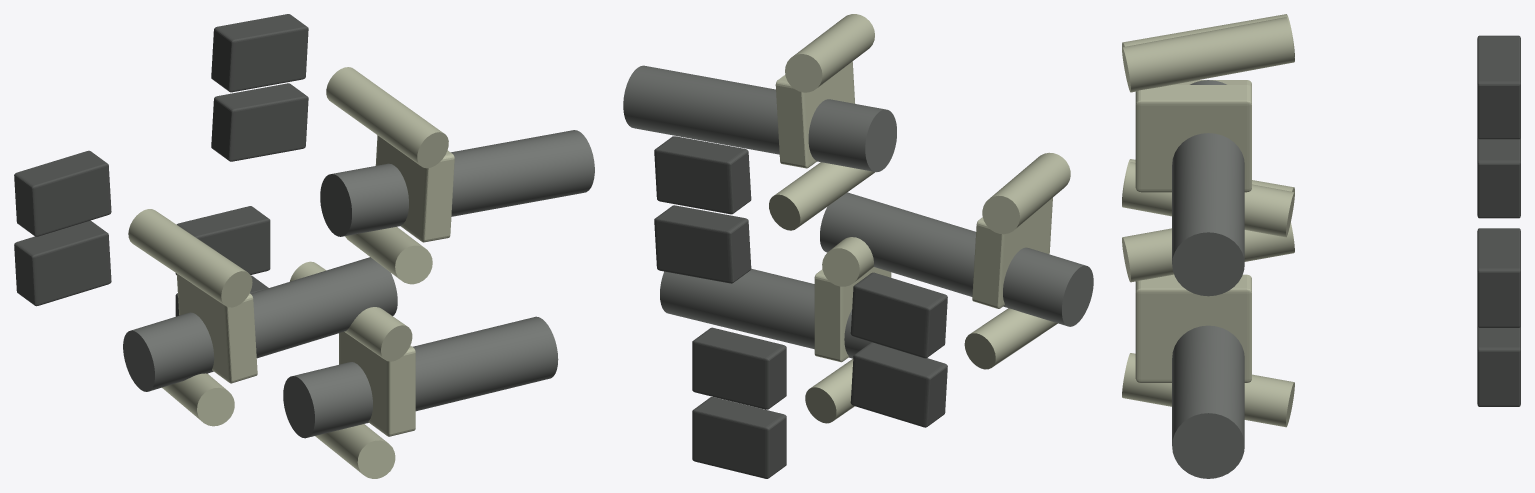
File: v-u05-vanguard-anti-air-team-lod2.glb
3 renders of one model, left to right at view 1: azimuth 30°, elevation 25°; view 2: azimuth 150°, elevation 25°; view 3: azimuth 270°, elevation 25°, orthographic. The views are drawn at different scales.
Visible parts, largest first — view 1: soldier_1_launcher, soldier_0_launcher, soldier_2_launcher, soldier_2_boot_1, soldier_2_boot_-1, soldier_0_boot_1, soldier_0_boot_-1, soldier_2_arm_1, soldier_0_arm_1, soldier_2_chest, soldier_1_chest, soldier_0_chest (+5 smaller); view 2: soldier_0_launcher, soldier_2_launcher, soldier_1_launcher, soldier_2_boot_1, soldier_1_boot_1, soldier_1_boot_-1, soldier_2_boot_-1, soldier_0_boot_-1, soldier_0_boot_1, soldier_2_chest, soldier_0_chest, soldier_2_arm_1 (+6 smaller); view 3: soldier_0_launcher, soldier_1_launcher, soldier_0_chest, soldier_0_arm_1, soldier_1_chest, soldier_0_boot_1, soldier_1_boot_1, soldier_1_arm_1, soldier_0_arm_-1, soldier_0_boot_-1, soldier_1_arm_-1, soldier_1_boot_-1 (+1 smaller).
Part boxes in pixels (x1,y1,x2,y2): soldier_1_launcher: (283,316,558,438); soldier_0_launcher: (320,130,594,236); soldier_2_launcher: (123,257,397,391); soldier_2_boot_1: (14,150,111,236); soldier_2_boot_-1: (14,220,111,306); soldier_0_boot_1: (211,14,308,92); soldier_0_boot_-1: (211,83,308,161); soldier_2_arm_1: (128,209,252,307); soldier_0_arm_1: (326,67,448,168); soldier_2_chest: (176,273,257,383); soldier_1_chest: (339,332,415,436); soldier_0_chest: (375,135,454,242); soldier_0_launcher: (623,65,896,172); soldier_2_launcher: (820,192,1093,326); soldier_1_launcher: (660,268,927,358); soldier_2_boot_1: (850,272,947,358); soldier_1_boot_1: (692,327,786,409); soldier_1_boot_-1: (692,397,786,478); soldier_2_boot_-1: (850,342,947,427); soldier_0_boot_-1: (654,205,751,283); soldier_0_boot_1: (654,136,751,214); soldier_2_chest: (972,198,1052,308); soldier_0_chest: (775,61,855,168); soldier_2_arm_1: (982,152,1070,234); soldier_0_launcher: (1172,80,1244,296); soldier_1_launcher: (1172,325,1244,478); soldier_0_chest: (1135,85,1251,192); soldier_0_arm_1: (1122,17,1294,92); soldier_1_chest: (1135,274,1251,382); soldier_0_boot_1: (1477,36,1520,139); soldier_1_boot_1: (1477,228,1520,327); soldier_1_arm_1: (1122,222,1294,282); soldier_0_arm_-1: (1122,162,1294,237); soldier_0_boot_-1: (1477,137,1520,218); soldier_1_arm_-1: (1122,353,1294,427); soldier_1_boot_-1: (1477,325,1520,406).
Size of what is drawn, in the model's own units: 2.41 by 1.89 by 1.65.
